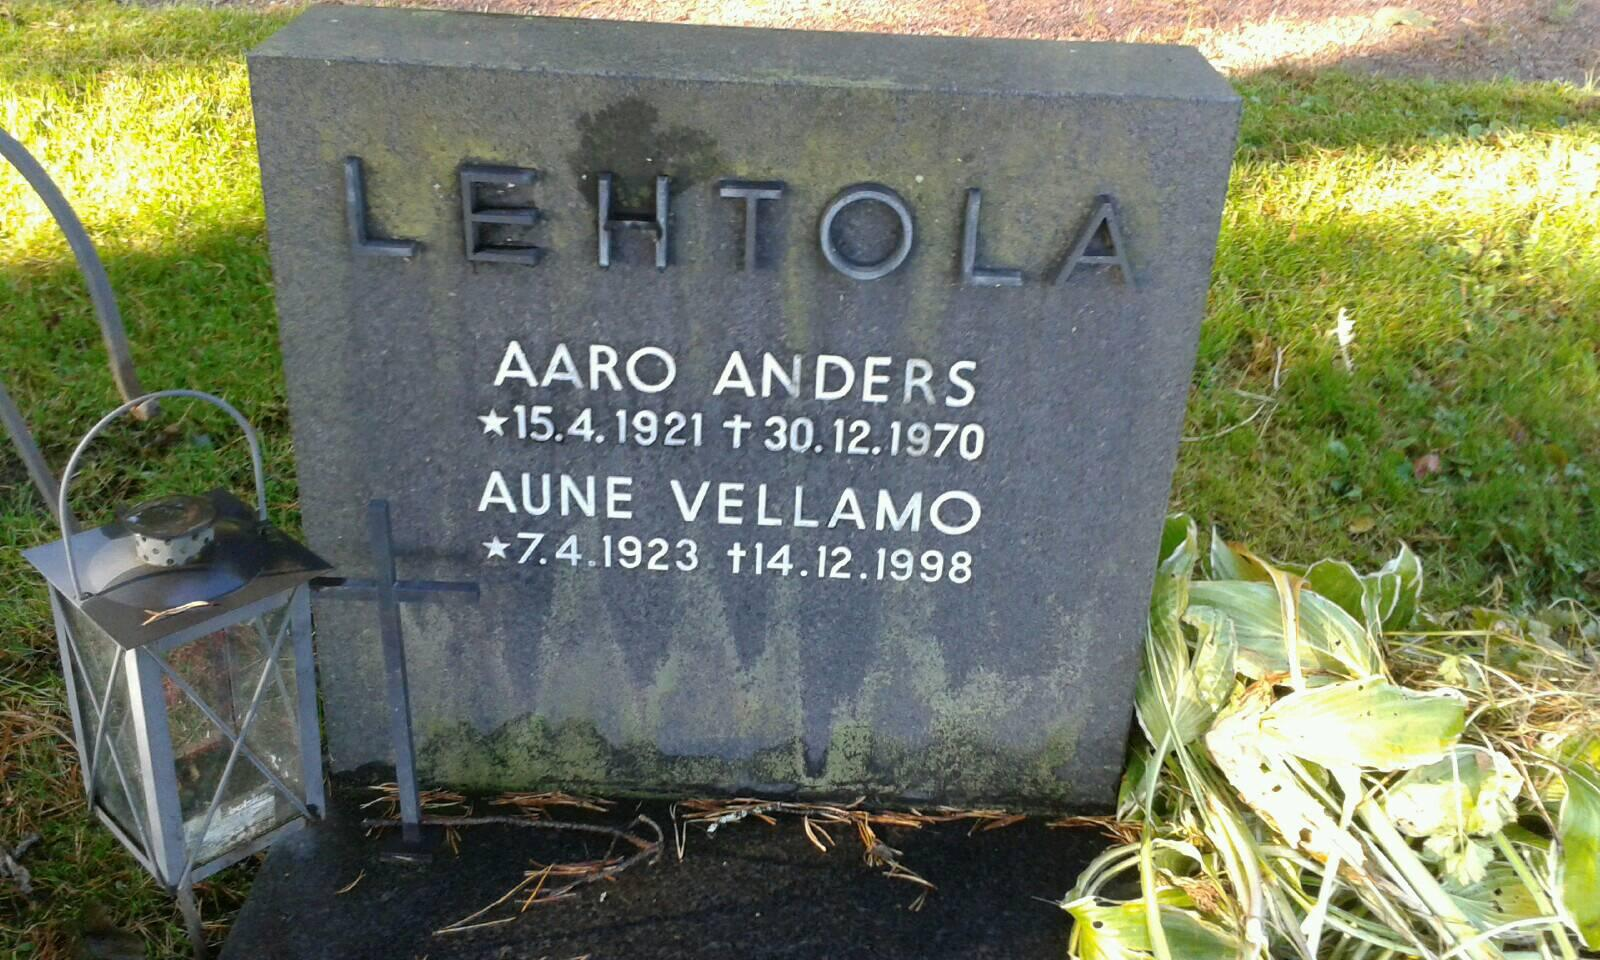upright: (219, 11, 1313, 954)
